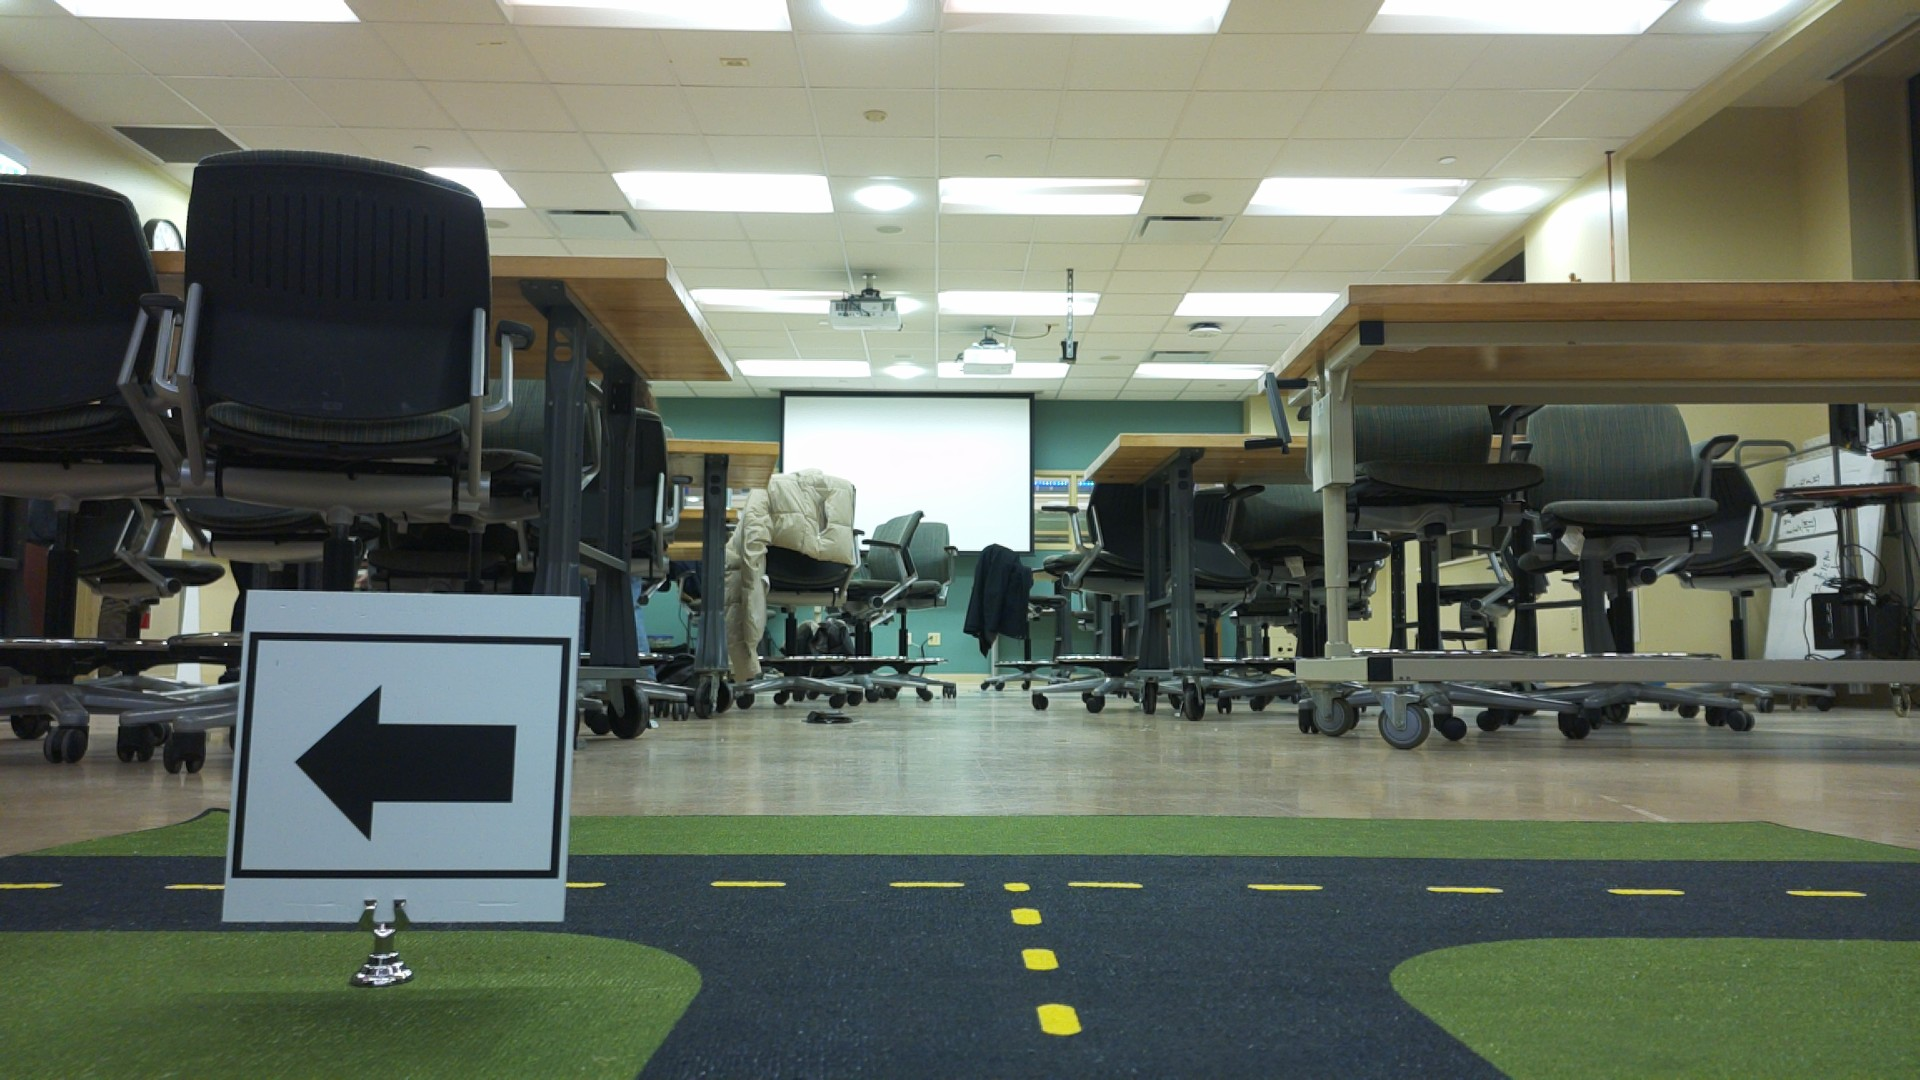turnleft: (237, 599, 568, 902)
